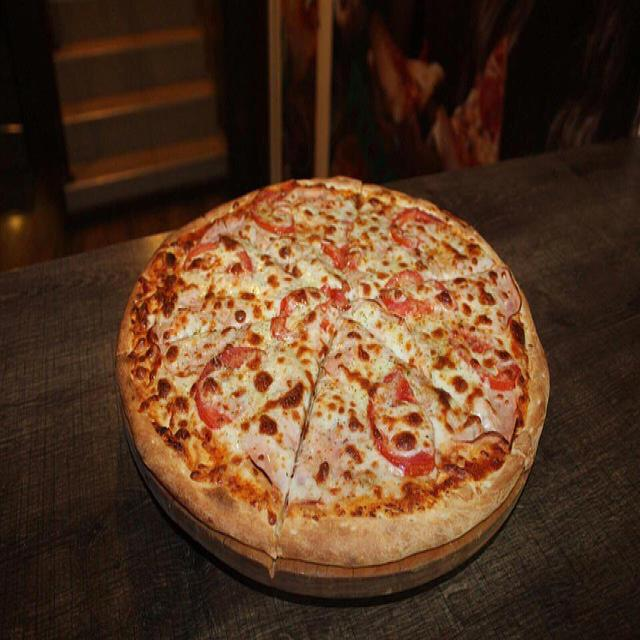pizza: (116, 178, 549, 564)
